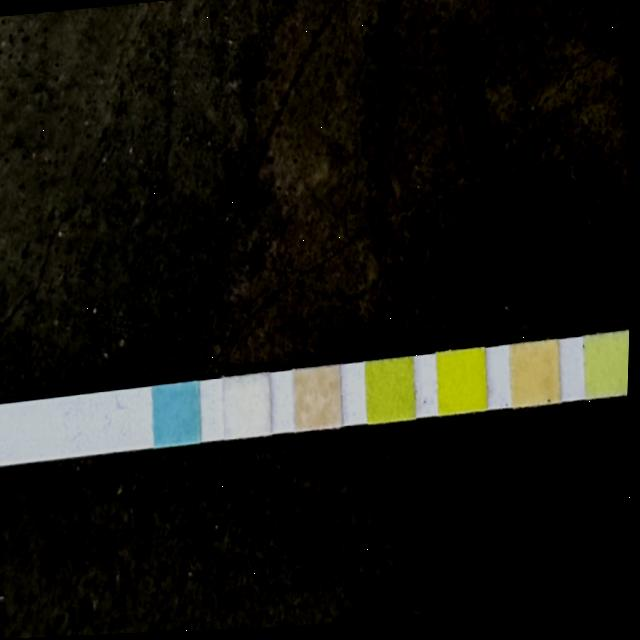Bilirubin: (225, 379, 273, 441)
Blood: (439, 354, 488, 417)
Glucose: (152, 384, 202, 448)
Ketone: (295, 370, 343, 432)
Protein: (586, 340, 632, 402)
SpGravity: (367, 363, 416, 426)
pH: (514, 347, 562, 409)
